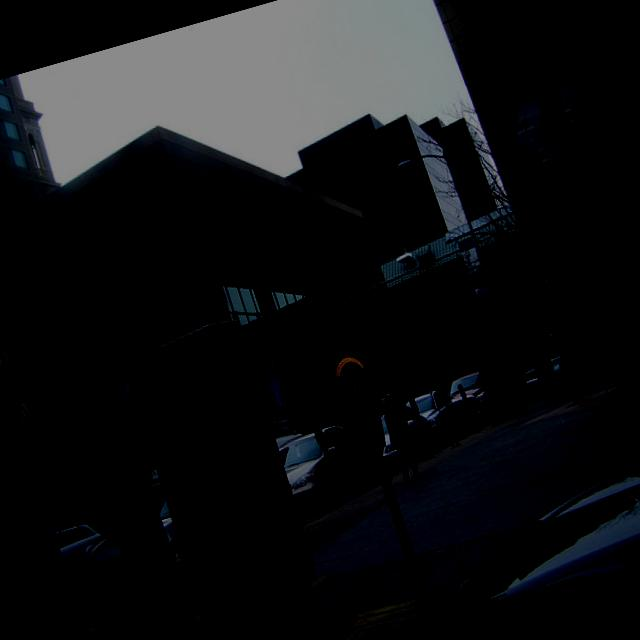Vehicle: (372, 432, 640, 629), (57, 479, 192, 614), (276, 418, 384, 518), (372, 400, 442, 473), (404, 384, 466, 452), (54, 516, 114, 584), (444, 368, 496, 432), (271, 414, 307, 448), (522, 368, 542, 396)
